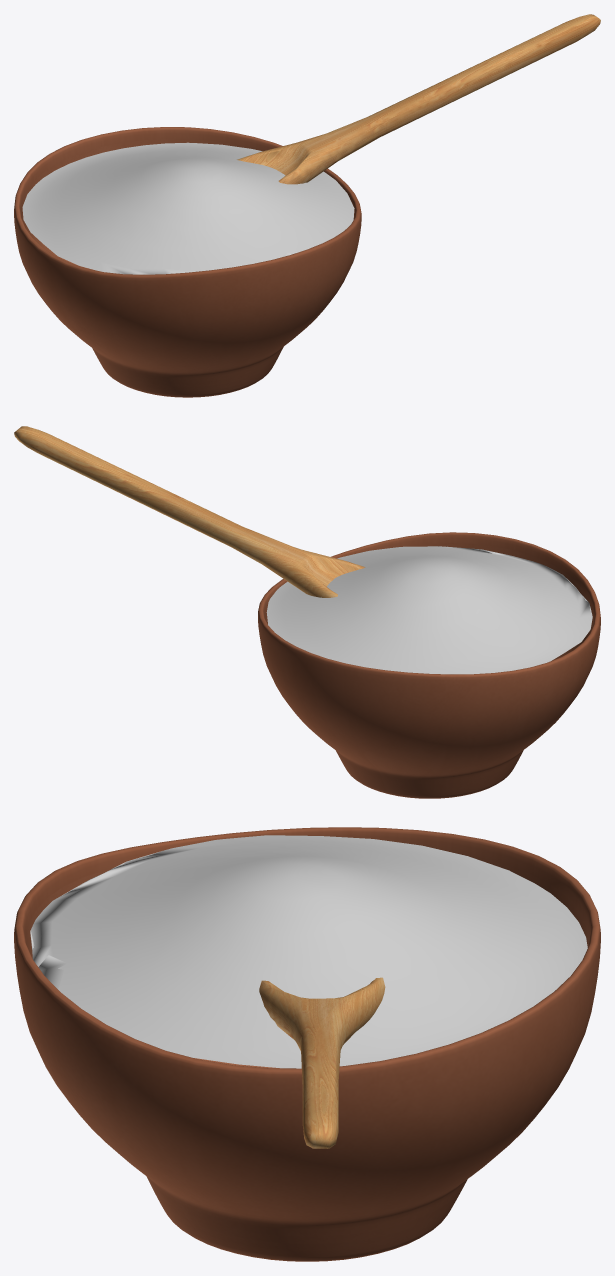
The model's file is salt_bowl_garum.fbx.
The picture shows the model from 3 angles, top to bottom: view 1: azimuth 30°, elevation 25°; view 2: azimuth 150°, elevation 25°; view 3: azimuth 270°, elevation 25°; orthographic projection. The views are drawn at different scales.
Parts seen in each view (by area): view 1: dolium, wooden-spoon; view 2: dolium, wooden-spoon; view 3: dolium, wooden-spoon.
Boxes of the visible parts, x1=… form: dolium: x1=14, y1=127, x2=361, y2=397; wooden-spoon: x1=237, y1=14, x2=600, y2=184; dolium: x1=258, y1=532, x2=600, y2=798; wooden-spoon: x1=14, y1=426, x2=365, y2=597; dolium: x1=14, y1=827, x2=600, y2=1261; wooden-spoon: x1=259, y1=977, x2=385, y2=1148.
Bounding box in the file's own units: 117 × 48.52 × 62.77.
